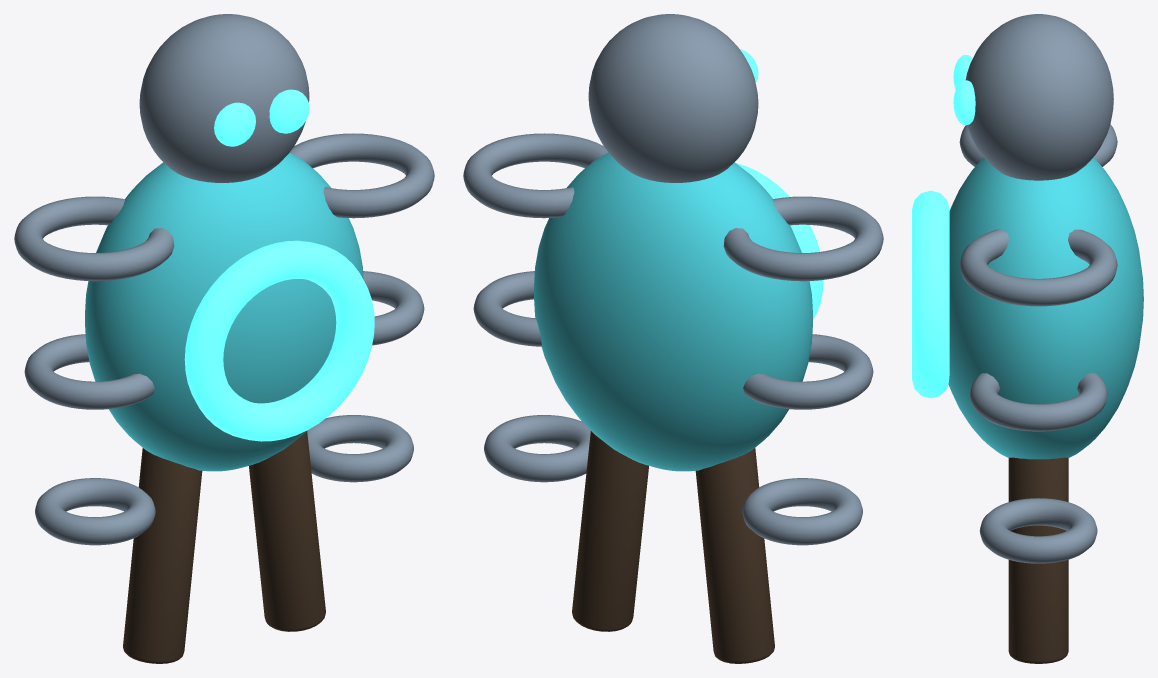
Rendered from construct_v3.glb.
3 views of the same model, side by side, from view 1: azimuth 30°, elevation 25°; view 2: azimuth 150°, elevation 25°; view 3: azimuth 270°, elevation 25° (orthographic). The views are drawn at different scales.
Parts seen in each view (by area): view 1: CLOCKWORK_TORSO_ACCENT, CLOCKWORK_HEAD_PRIMARY, CHEST_GEAR_EMISSIVE, CLOCKWORK_LEG_SECONDARY, CLOCKWORK_LEG_SECONDARY.001, GEAR_JOINT_PRIMARY, GEAR_JOINT_PRIMARY.003, GEAR_JOINT_PRIMARY.002, GEAR_JOINT_PRIMARY.005, GEAR_JOINT_PRIMARY.001, GEAR_JOINT_PRIMARY.004, EYE_EMISSIVE (+1 smaller); view 2: CLOCKWORK_TORSO_ACCENT, CLOCKWORK_HEAD_PRIMARY, CLOCKWORK_LEG_SECONDARY, CLOCKWORK_LEG_SECONDARY.001, GEAR_JOINT_PRIMARY, GEAR_JOINT_PRIMARY.003, GEAR_JOINT_PRIMARY.002, GEAR_JOINT_PRIMARY.005, GEAR_JOINT_PRIMARY.001, GEAR_JOINT_PRIMARY.004, CHEST_GEAR_EMISSIVE; view 3: CLOCKWORK_TORSO_ACCENT, CLOCKWORK_HEAD_PRIMARY, CLOCKWORK_LEG_SECONDARY.001, CHEST_GEAR_EMISSIVE, GEAR_JOINT_PRIMARY.003, GEAR_JOINT_PRIMARY.005, GEAR_JOINT_PRIMARY.004, GEAR_JOINT_PRIMARY, EYE_EMISSIVE.001, EYE_EMISSIVE.
Part boxes in pixels (box(x1,y1,x2,y2)): CLOCKWORK_TORSO_ACCENT: box(85, 152, 363, 471); CLOCKWORK_HEAD_PRIMARY: box(139, 14, 309, 182); CHEST_GEAR_EMISSIVE: box(184, 240, 374, 441); CLOCKWORK_LEG_SECONDARY: box(123, 448, 202, 663); CLOCKWORK_LEG_SECONDARY.001: box(249, 431, 325, 631); GEAR_JOINT_PRIMARY: box(14, 196, 174, 281); GEAR_JOINT_PRIMARY.003: box(290, 133, 434, 218); GEAR_JOINT_PRIMARY.002: box(35, 478, 155, 545); GEAR_JOINT_PRIMARY.005: box(307, 415, 413, 482); GEAR_JOINT_PRIMARY.001: box(24, 334, 154, 409); GEAR_JOINT_PRIMARY.004: box(363, 271, 424, 345); EYE_EMISSIVE: box(214, 102, 255, 146); CLOCKWORK_TORSO_ACCENT: box(534, 152, 812, 471); CLOCKWORK_HEAD_PRIMARY: box(588, 14, 758, 182); CLOCKWORK_LEG_SECONDARY: box(695, 448, 774, 663); CLOCKWORK_LEG_SECONDARY.001: box(572, 431, 648, 631); GEAR_JOINT_PRIMARY: box(723, 196, 883, 281); GEAR_JOINT_PRIMARY.003: box(463, 133, 607, 218); GEAR_JOINT_PRIMARY.002: box(742, 478, 862, 545); GEAR_JOINT_PRIMARY.005: box(484, 415, 590, 482); GEAR_JOINT_PRIMARY.001: box(743, 334, 873, 409); GEAR_JOINT_PRIMARY.004: box(473, 271, 542, 346); CHEST_GEAR_EMISSIVE: box(736, 163, 823, 319); CLOCKWORK_TORSO_ACCENT: box(948, 157, 1143, 459); CLOCKWORK_HEAD_PRIMARY: box(965, 14, 1113, 180); CLOCKWORK_LEG_SECONDARY.001: box(1008, 457, 1068, 663); CHEST_GEAR_EMISSIVE: box(912, 190, 949, 398); GEAR_JOINT_PRIMARY.003: box(959, 229, 1117, 306); GEAR_JOINT_PRIMARY.005: box(979, 498, 1097, 563); GEAR_JOINT_PRIMARY.004: box(969, 373, 1107, 431); GEAR_JOINT_PRIMARY: box(959, 124, 1117, 166); EYE_EMISSIVE.001: box(953, 80, 975, 125); EYE_EMISSIVE: box(953, 55, 972, 89).
Bounding box in the file's own units: 1.79 × 2.65 × 0.925.
